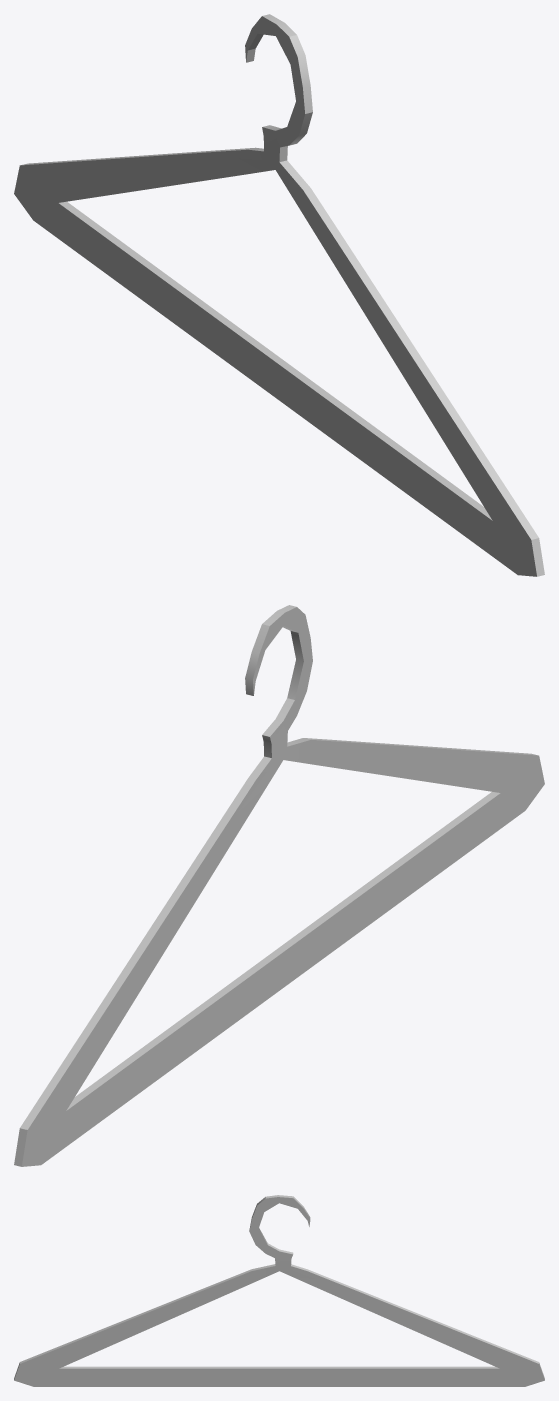
File: Hanger_B.FBX
3 renders of one model, top to bottom at view 1: azimuth 30°, elevation 25°; view 2: azimuth 150°, elevation 25°; view 3: azimuth 270°, elevation 25°, orthographic. The views are drawn at different scales.
Parts seen in each view (by area): view 1: Hanger; view 2: Hanger; view 3: Hanger.
Boxes of the visible parts, left/top/right/bottom form: Hanger: left=14, top=14, right=544, bottom=576; Hanger: left=14, top=605, right=544, bottom=1166; Hanger: left=14, top=1195, right=544, bottom=1386.
Bounding box in the file's own units: 1.01 × 45.57 × 115.
